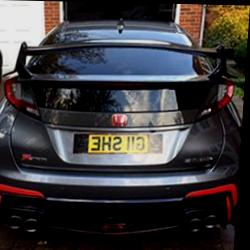License_Plate: (70, 131, 164, 157)
